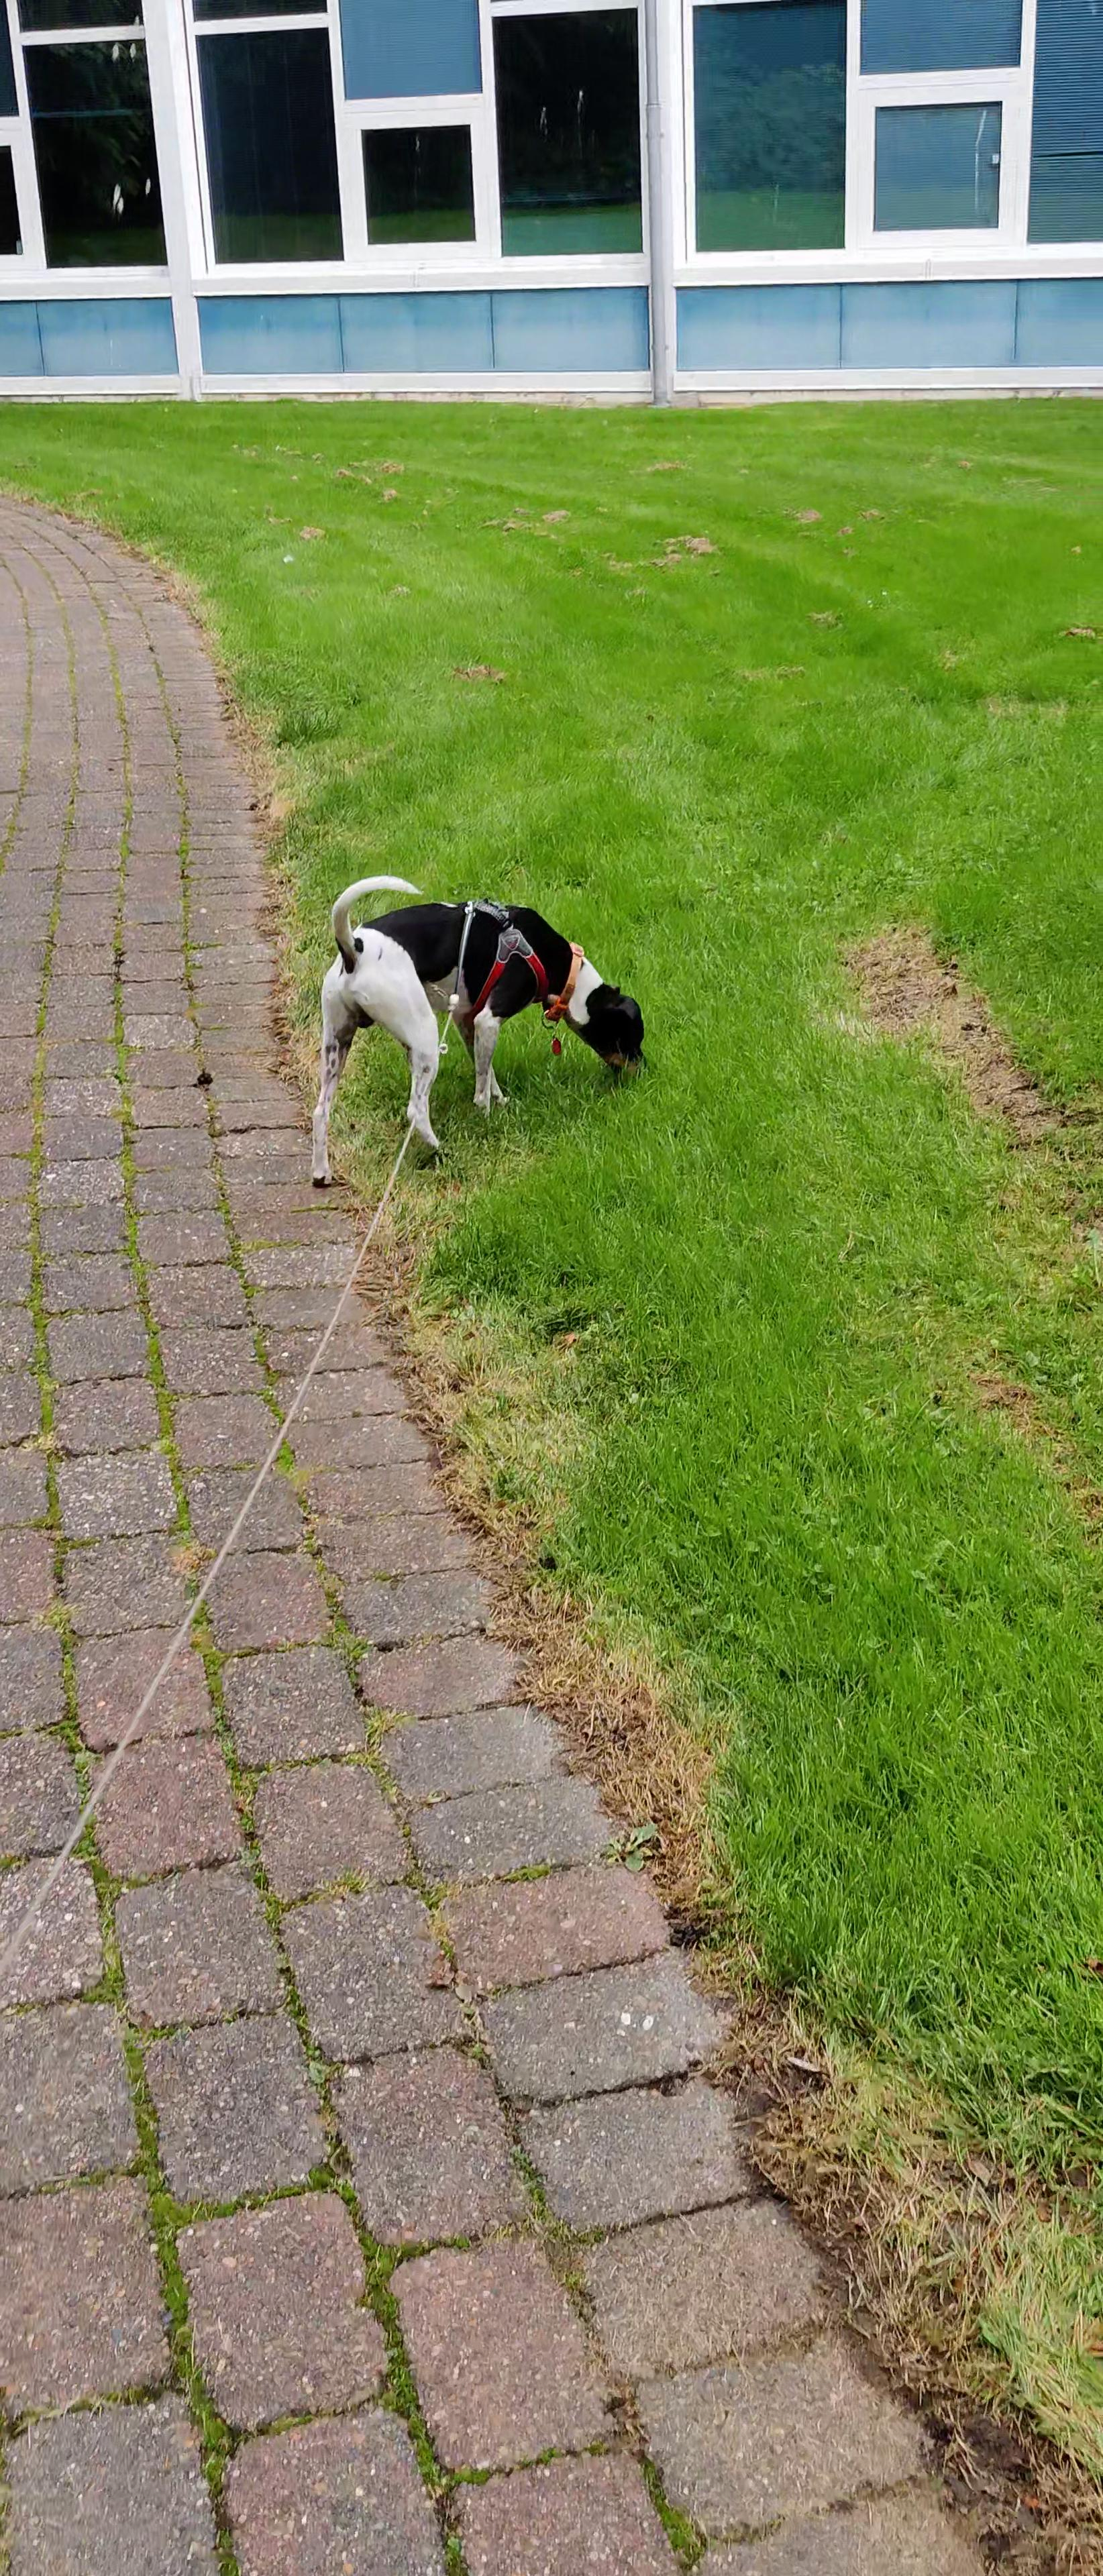Dog: (291, 859, 662, 1201)
